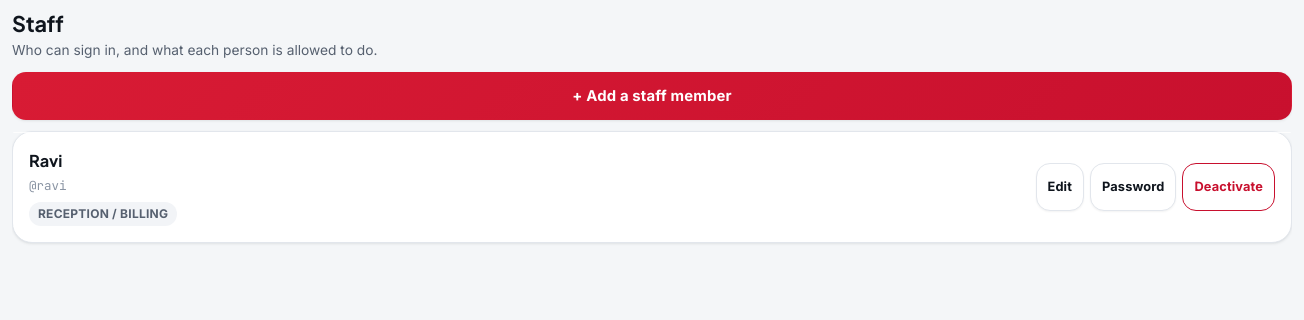
Test: staff and tables › a failed deactivation does not say the person is locked out
Click the button "Deactivate" at (1229, 187), box [1182,163,1275,211]
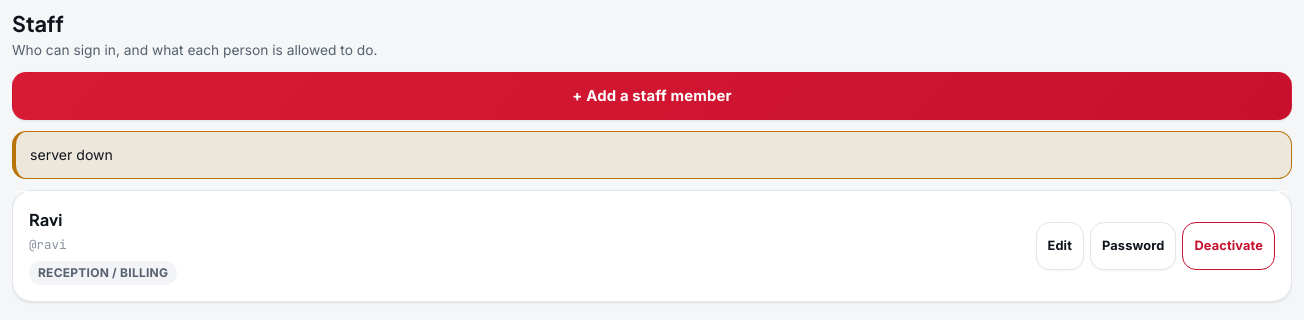
expect the text "server down" is shown: met, box [30,144,113,166]
